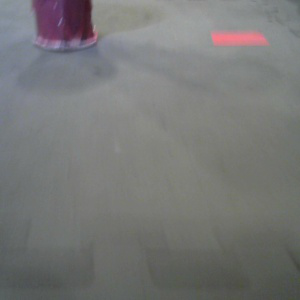right: (19, 1, 102, 53)
